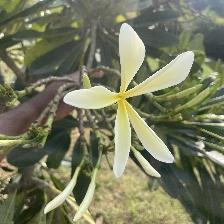champaka: (63, 21, 200, 180)
